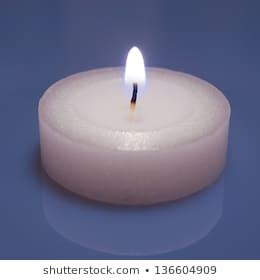fire: (121, 43, 148, 110)
